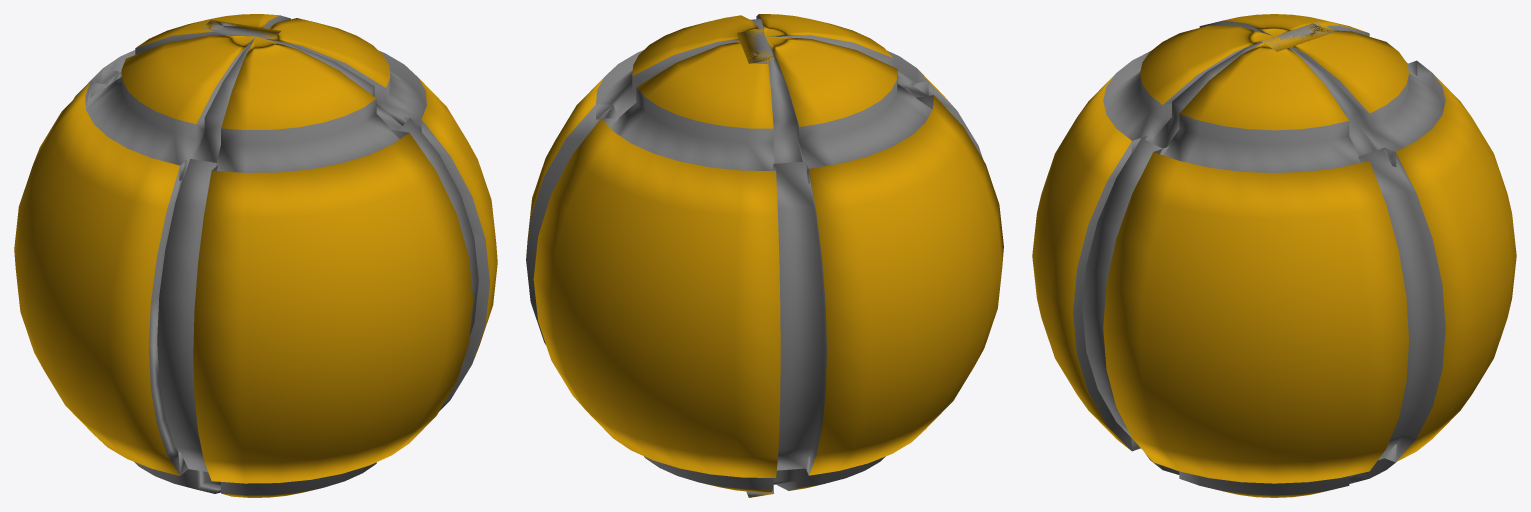
Rendered from OrangeBubble.fbx.
The picture shows the model from 3 angles, left to right: view 1: azimuth 30°, elevation 25°; view 2: azimuth 150°, elevation 25°; view 3: azimuth 270°, elevation 25°; orthographic projection.
Parts seen in each view (by area): view 1: Sphere; view 2: Sphere; view 3: Sphere.
Part boxes in pixels (left/top/right/bottom): Sphere: left=14, top=14, right=497, bottom=497; Sphere: left=526, top=14, right=1003, bottom=497; Sphere: left=1032, top=14, right=1516, bottom=497.
Bounding box in the file's own units: 2 × 2.01 × 2.
